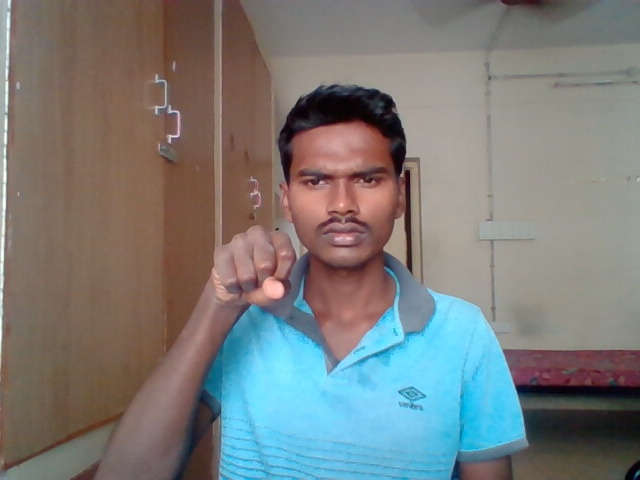Thank You: (208, 222, 298, 310)
